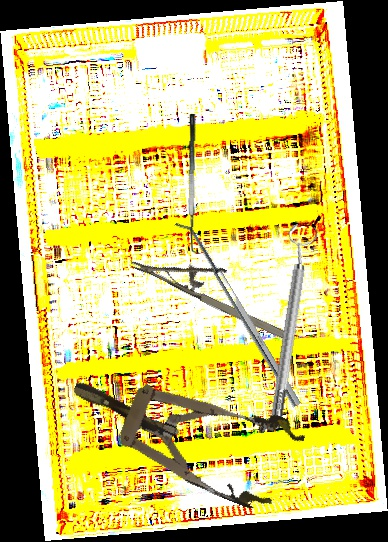Fixation Ring: (257, 223, 322, 431)
Needle Holder: (129, 230, 301, 344)
Spatula Surgical: (174, 216, 301, 412), (184, 113, 208, 255)
Speculum: (57, 341, 309, 518)
